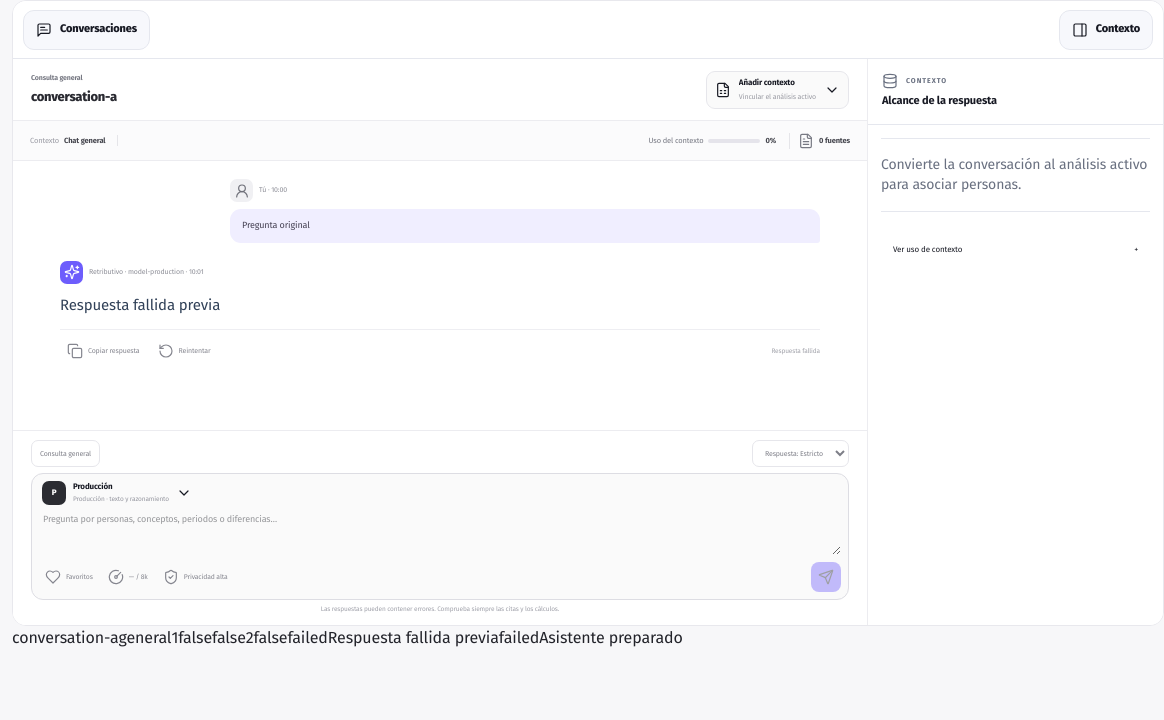
Phase 5 fifth-review regressions › zero-delta retry failure preserves a failed target
What coordinates should you click on to do the following:
click the button with aria-label "Reintentar respuesta"
I would click on:
 (184, 351)
Its box is [150,337,218,365].
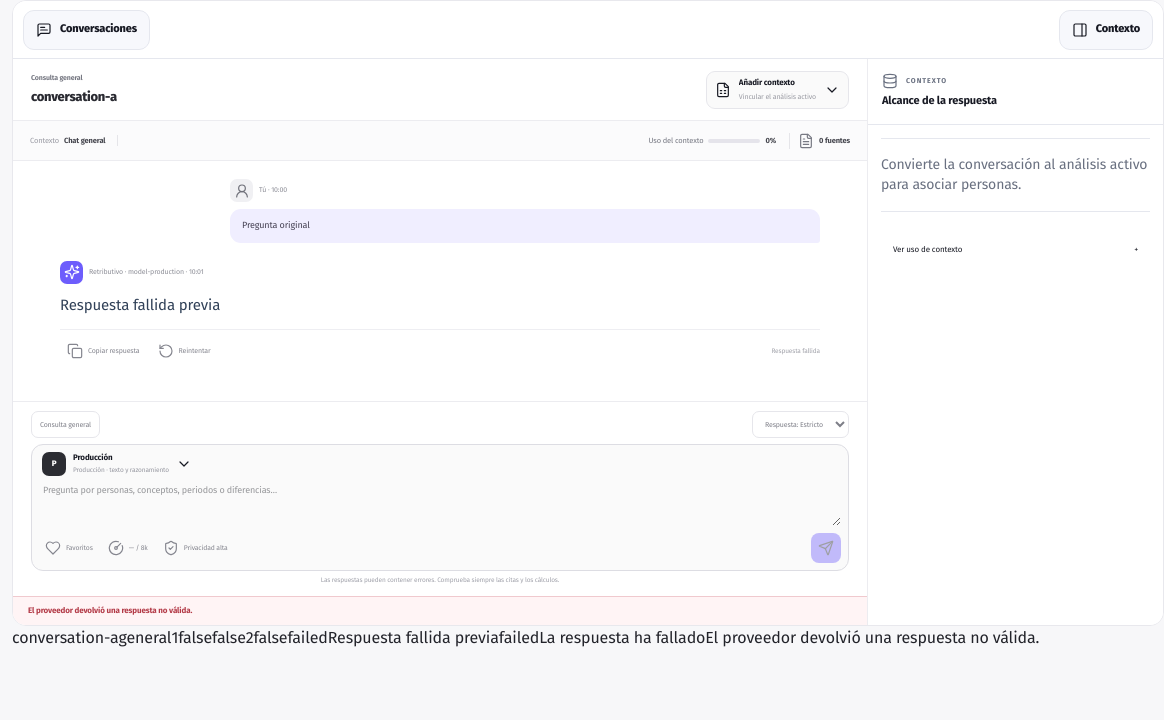
expect the text with test id "streaming" reads "false": met, box [178,628,212,647]
expect the message "El proveedor devolvió una respuesta no válida." is shown: met, box [13,596,867,625]
